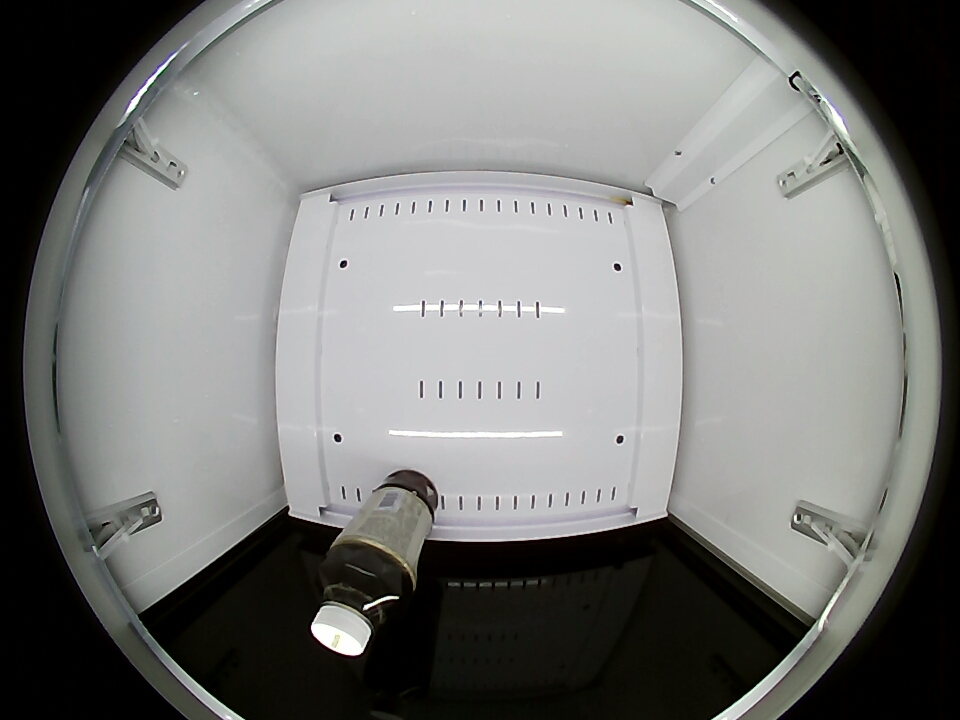wulongcha: (310, 553, 411, 657)
